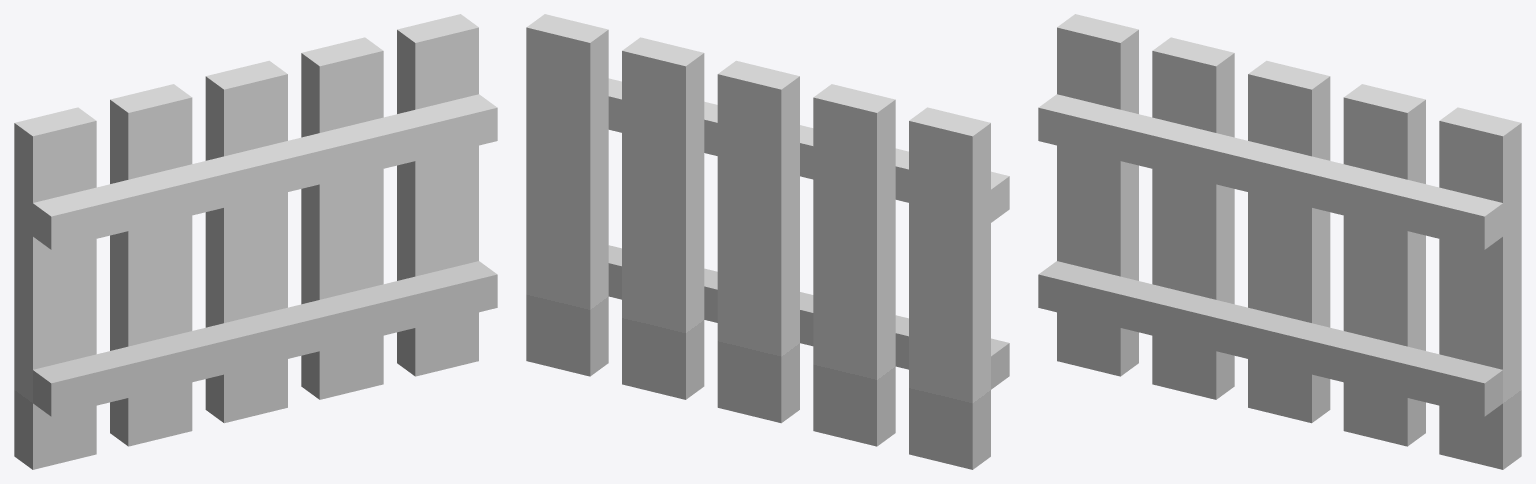
File: obj_fence7.fbx
3 renders of one model, left to right at view 1: azimuth 30°, elevation 25°; view 2: azimuth 150°, elevation 25°; view 3: azimuth 330°, elevation 25°, orthographic.
Parts seen in each view (by area): view 1: obj_fence7; view 2: obj_fence7; view 3: obj_fence7.
Boxes of the visible parts, <box> form: obj_fence7: <box>14,14,497,469</box>; obj_fence7: <box>526,14,1009,469</box>; obj_fence7: <box>1038,14,1521,469</box>.
Bounding box in the file's own units: 1.4 × 0.2 × 1.
Materials: 1 (1 with a texture image).
